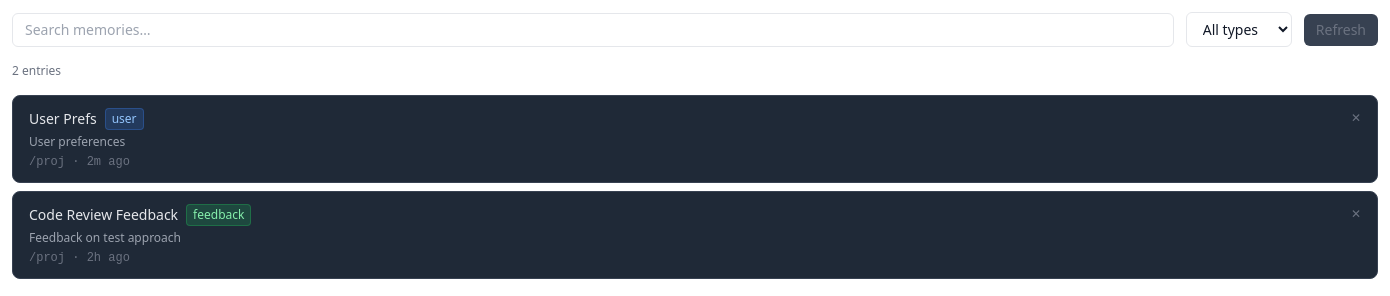
Scenario: MemoryViewer › filters entries by type
Expected: the text "User Prefs" is shown, [29, 109, 97, 129]
Select "feedback" in the dropdown at {"x": 1239, "y": 30}, box [1186, 12, 1292, 47]
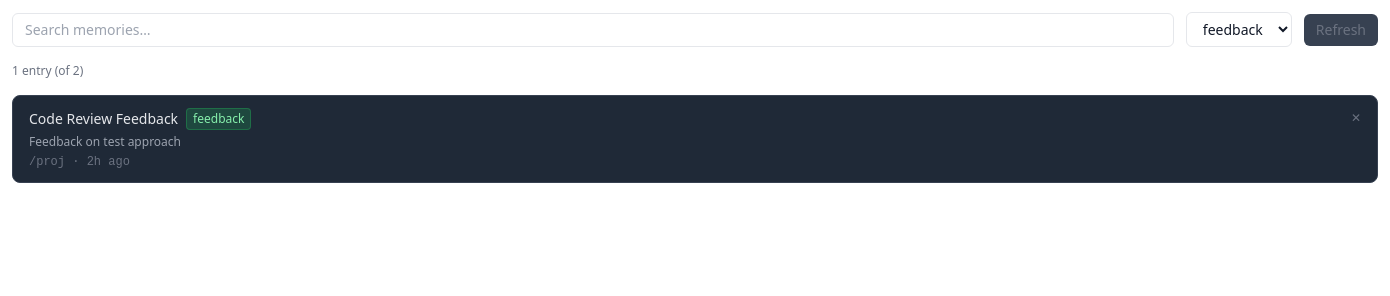
Expected: the text "Code Review Feedback" is shown, [29, 109, 178, 129]
Expected: the button "User Prefs" is gone
